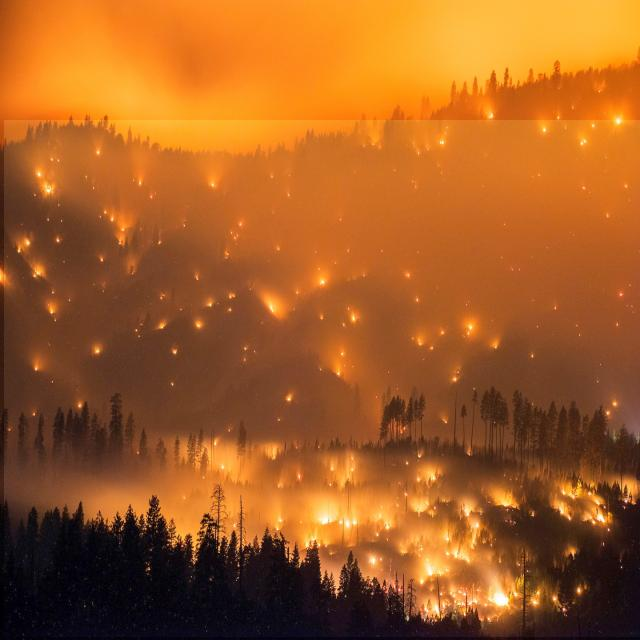Fire: (4, 120, 640, 637)
